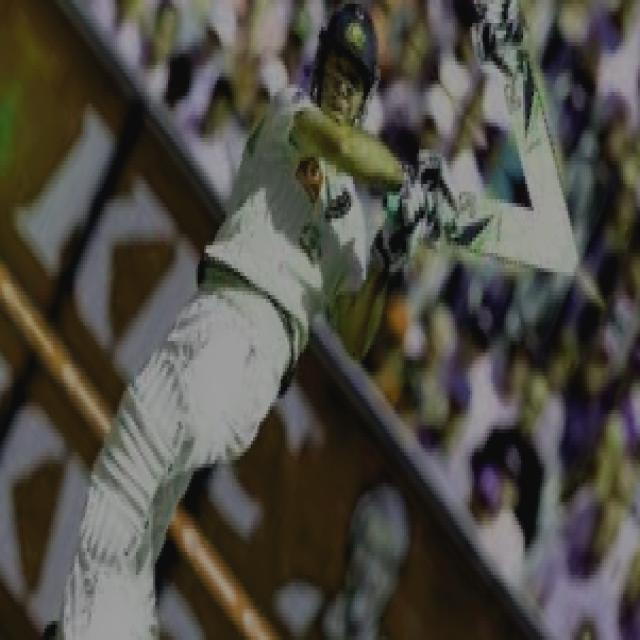toe: (530, 235, 566, 276)
